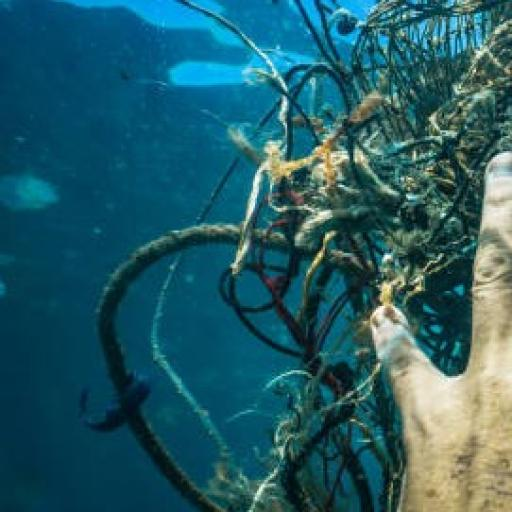net: (98, 0, 512, 512)
